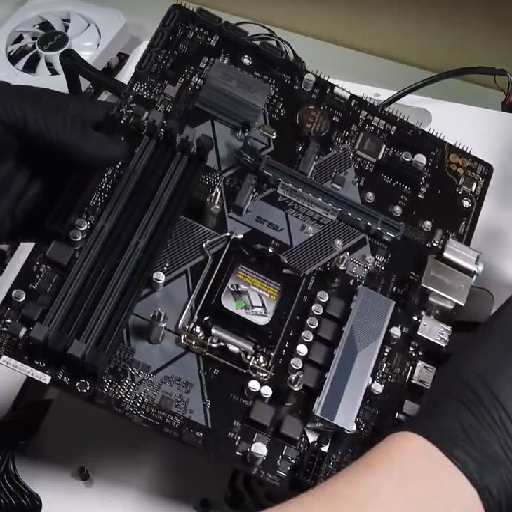CPU: (181, 242, 307, 382)
GPU: (236, 145, 404, 243)
MOTHERBOARD: (1, 7, 496, 493)
RAM: (29, 106, 216, 378)
SSD: (233, 173, 256, 217), (297, 141, 320, 180)
